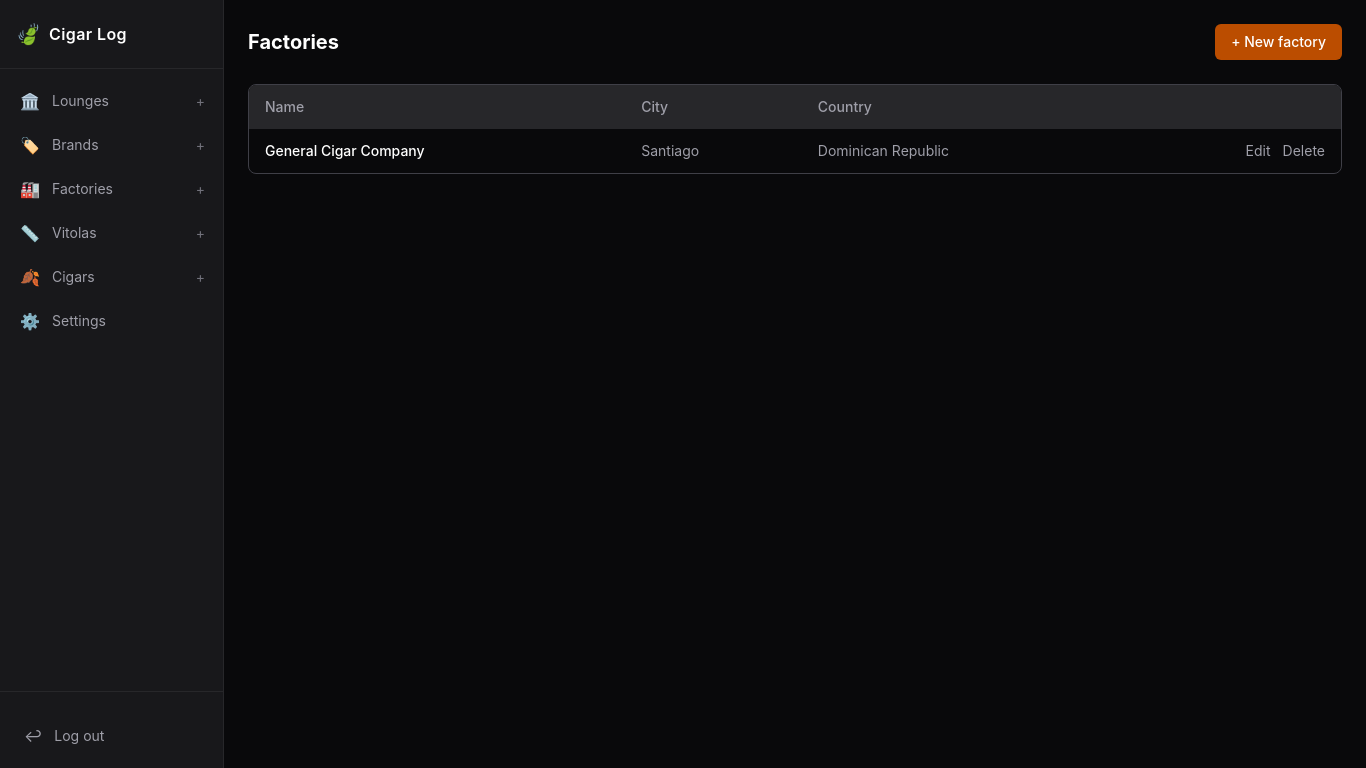
FactoriesPage › opens create modal when New factory is clicked
Click the button "+ New factory": (1279, 42) top-left (1215, 24), bottom-right (1342, 60)
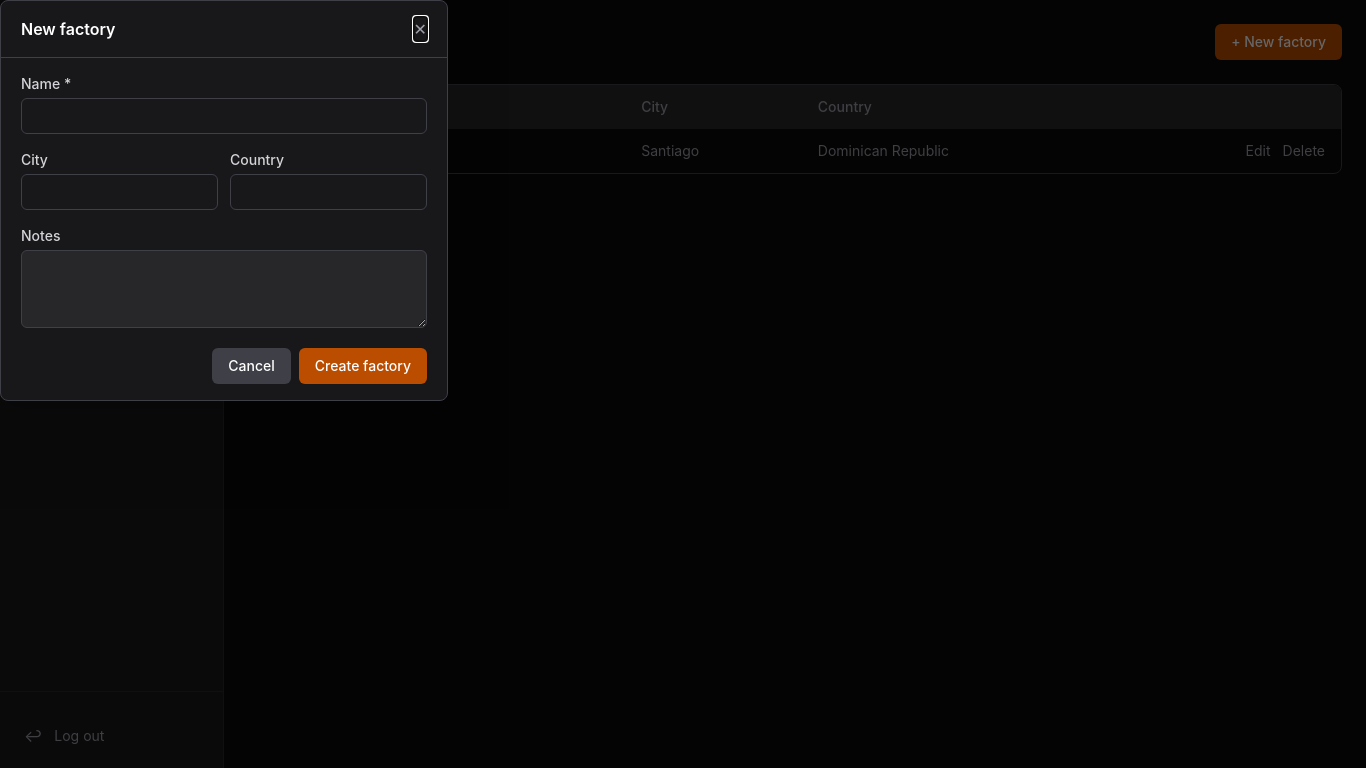
Expected: the heading "New factory" is shown, top-left (21, 17), bottom-right (116, 41)
Expected: the field below "Name *" is shown, top-left (21, 98), bottom-right (427, 134)
